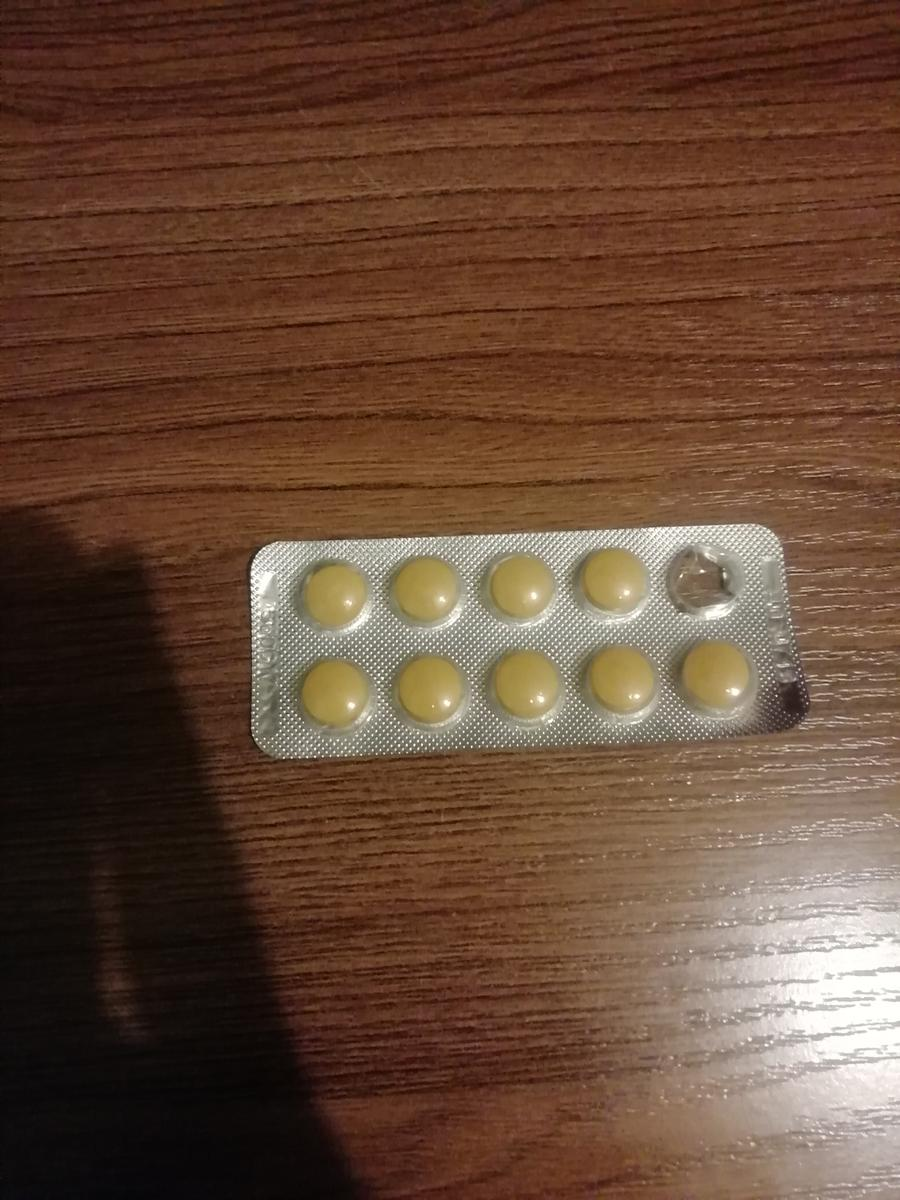tablet: (284, 557, 380, 629), (279, 656, 375, 728), (380, 551, 476, 623), (380, 652, 476, 724), (470, 551, 566, 623), (481, 654, 577, 726), (562, 540, 658, 612), (569, 645, 665, 717), (673, 643, 769, 715)
